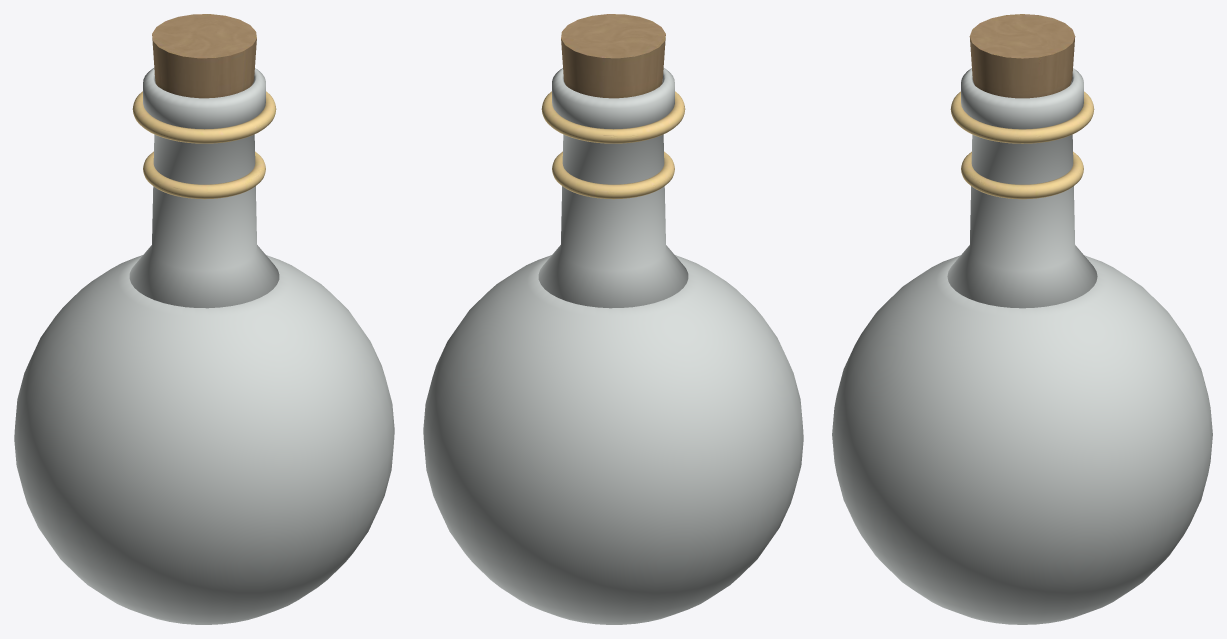
Rendered from wpn_flask.glb.
3 renders of one model, left to right at view 1: azimuth 30°, elevation 25°; view 2: azimuth 150°, elevation 25°; view 3: azimuth 270°, elevation 25°, orthographic.
Visible parts, largest first — view 1: flask_glass, flask; view 2: flask_glass, flask; view 3: flask_glass, flask.
Boxes of the visible parts, x1,y1,x2,y2 form: flask_glass: (14, 68, 394, 624); flask: (132, 14, 276, 199); flask_glass: (423, 68, 803, 624); flask: (541, 14, 685, 199); flask_glass: (832, 68, 1212, 624); flask: (950, 14, 1094, 199).
Size of the model in its own units: 0.26 by 0.43 by 0.26.
3 materials, 1 textured.
